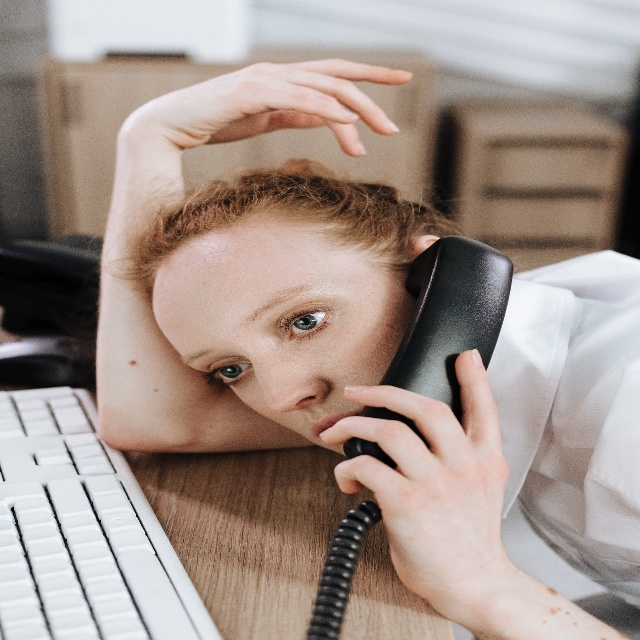Sin_guantes: (321, 348, 509, 610), (124, 57, 414, 159)
